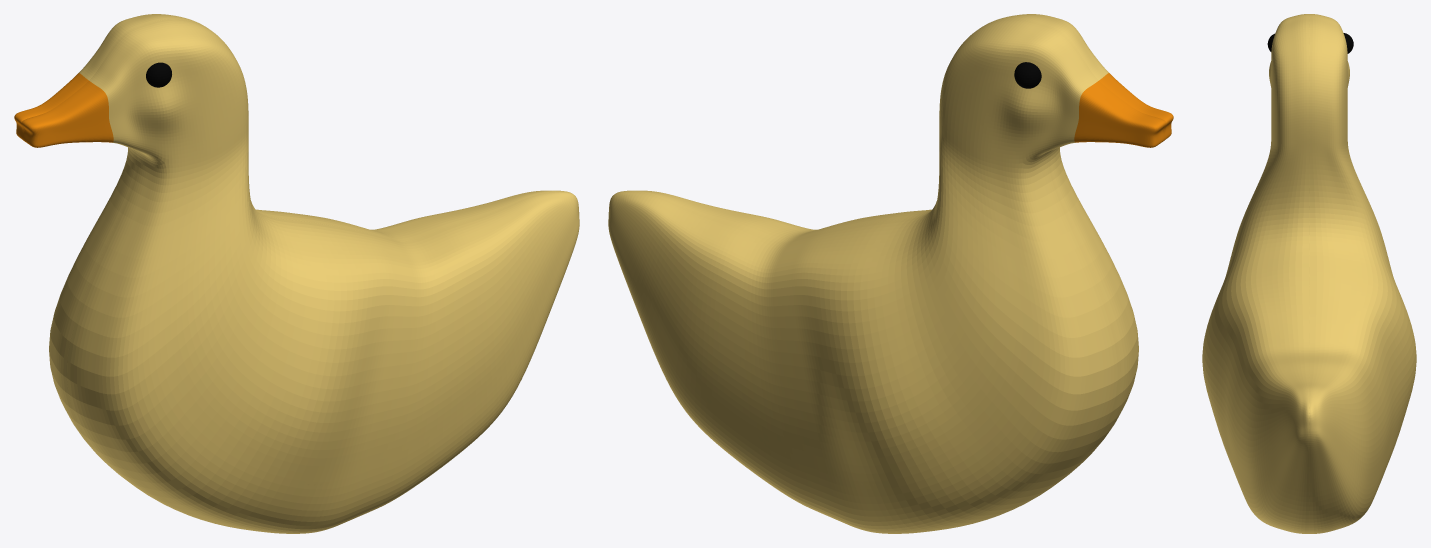
File: pato_3.glb
3 renders of one model, left to right at view 1: azimuth 30°, elevation 25°; view 2: azimuth 150°, elevation 25°; view 3: azimuth 270°, elevation 25°, orthographic. The views are drawn at different scales.
Visible parts, largest first — view 1: Cube; view 2: Cube; view 3: Cube.
Part boxes in pixels (left/top/right/bottom): Cube: left=14, top=14, right=579, bottom=533; Cube: left=608, top=14, right=1173, bottom=533; Cube: left=1202, top=14, right=1416, bottom=533.
Bounding box in the file's own units: 2.06 × 1.88 × 0.8447.
